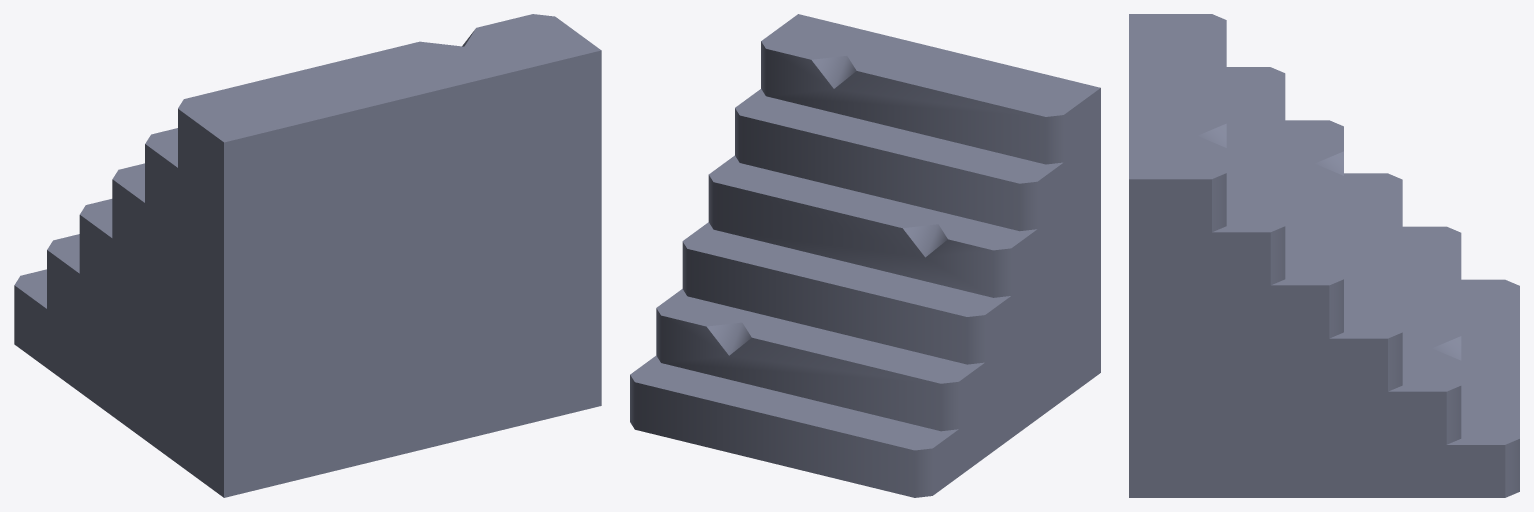
The model's file is stairs.glb.
The picture shows the model from 3 angles, left to right: view 1: azimuth 30°, elevation 25°; view 2: azimuth 150°, elevation 25°; view 3: azimuth 270°, elevation 25°; orthographic projection. The views are drawn at different scales.
Visible parts, largest first — view 1: stairs; view 2: stairs; view 3: stairs.
Boxes of the visible parts, x1,y1,x2,y2 form: stairs: [14, 14, 601, 497]; stairs: [630, 14, 1100, 497]; stairs: [1129, 14, 1519, 497].
Bounding box in the file's own units: 1 × 0.9 × 1.
